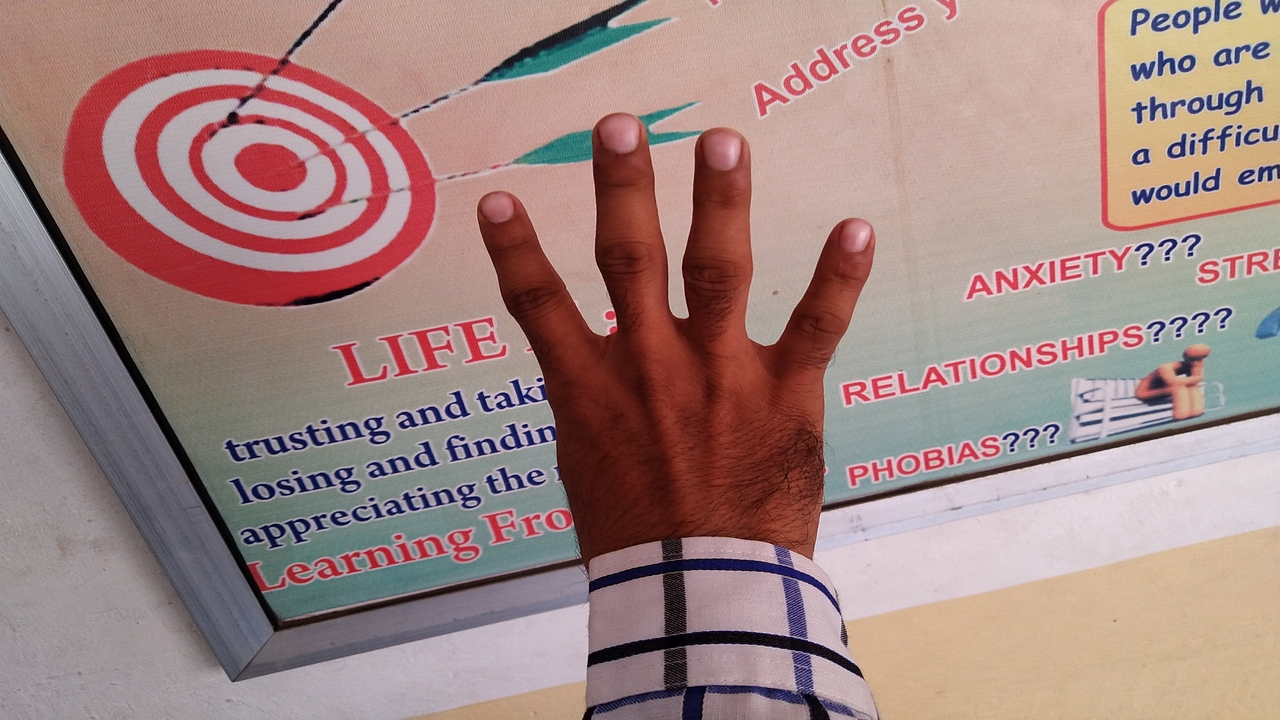fingertip: (470, 180, 536, 244), (688, 122, 756, 184), (822, 208, 886, 272), (588, 106, 652, 168)
